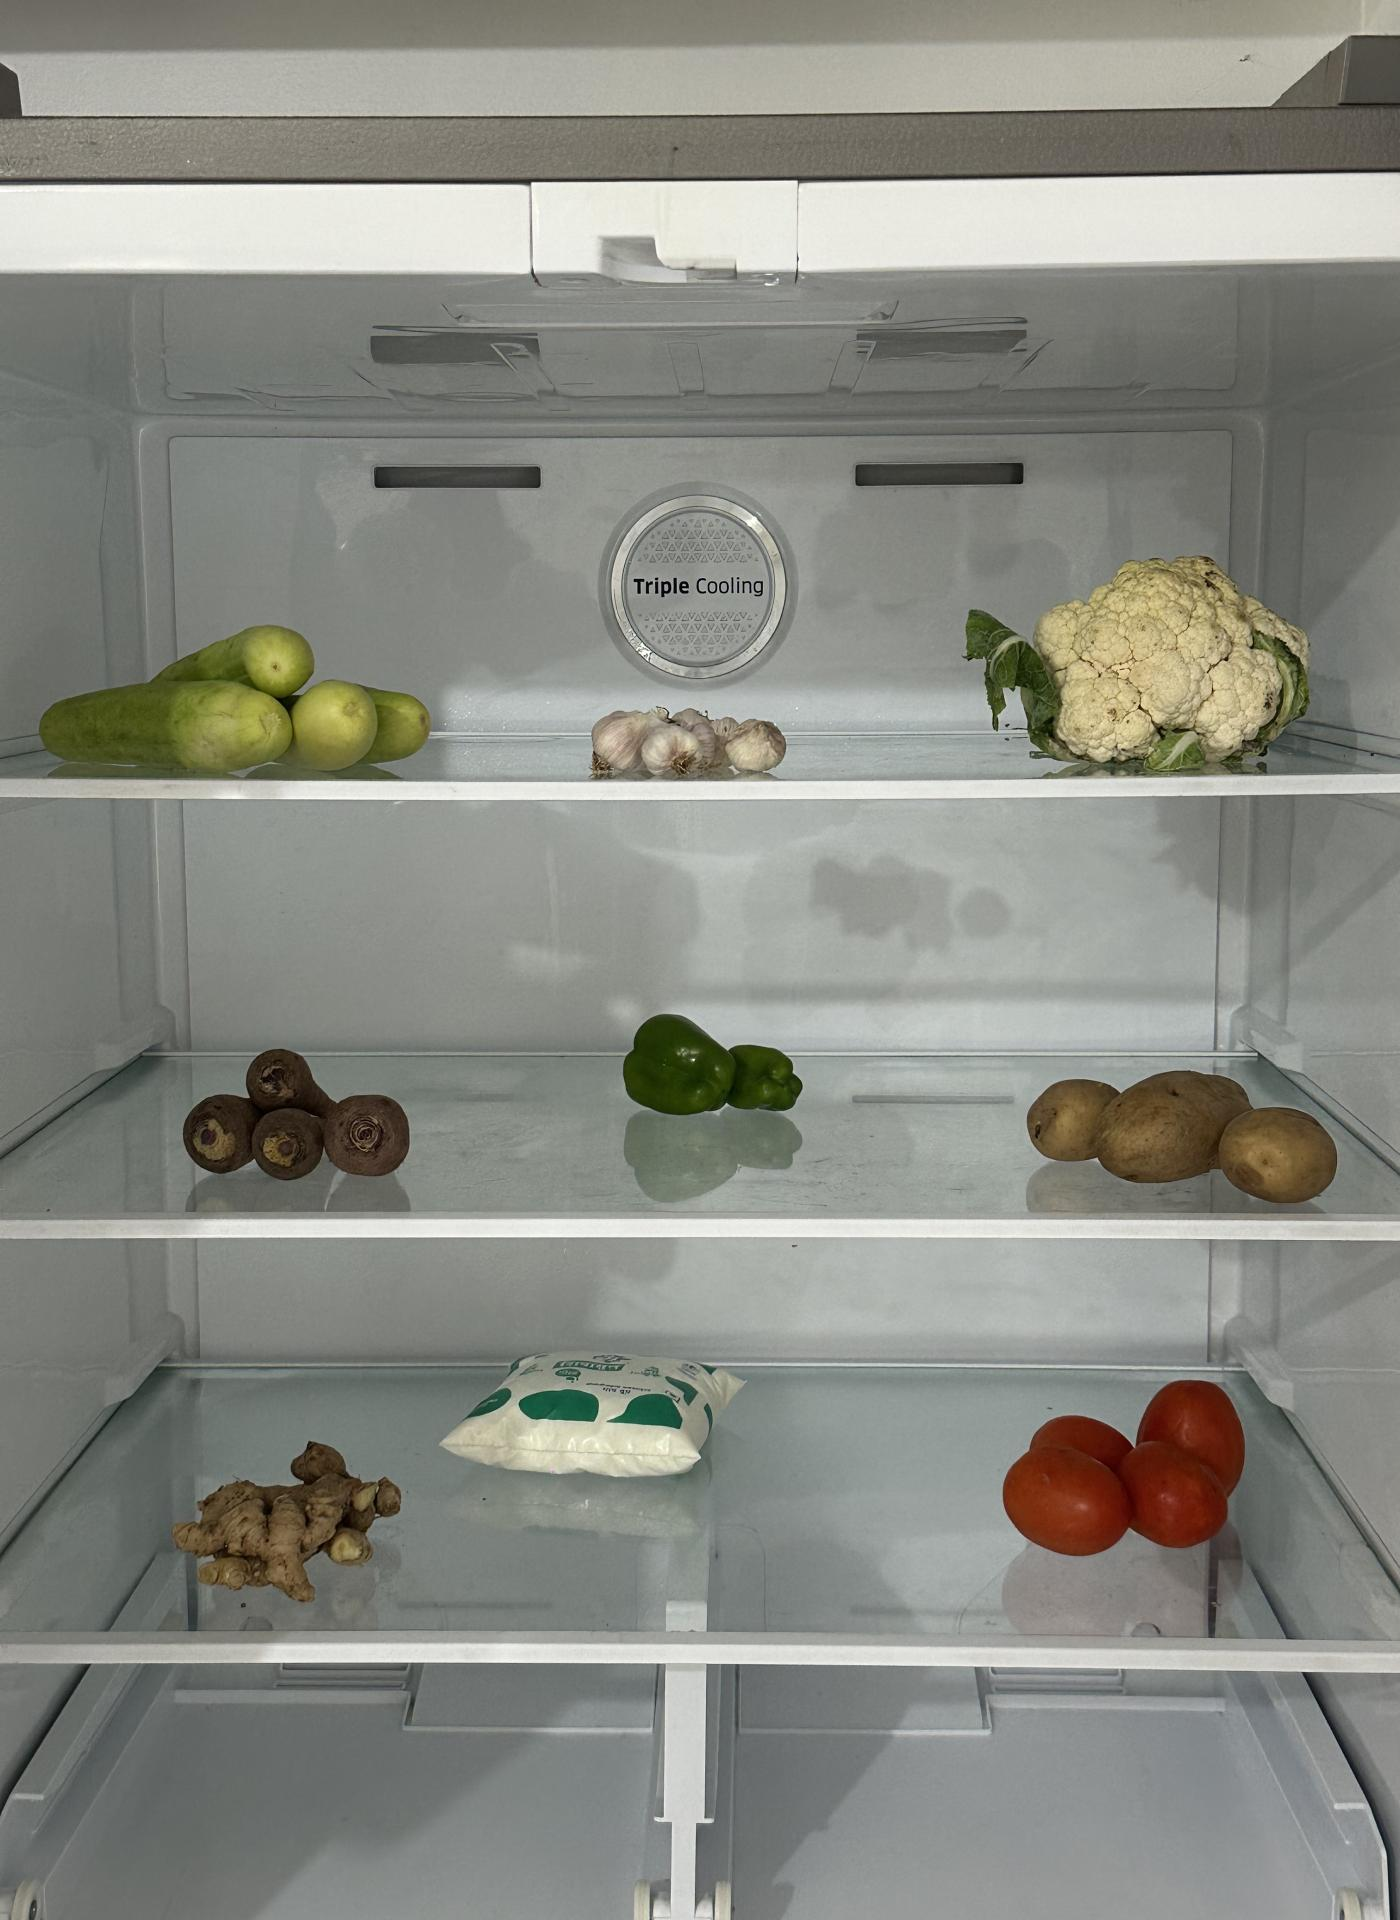capsicum: (620, 1008, 804, 1121)
carrots: (183, 1040, 412, 1190)
cauliflower: (1017, 544, 1314, 762)
cucumber: (33, 619, 429, 775)
garlic: (577, 693, 795, 778)
ginger: (173, 1437, 403, 1597)
milk: (440, 1346, 751, 1480)
potato: (1024, 1063, 1334, 1206)
tomato: (1006, 1368, 1243, 1558)
